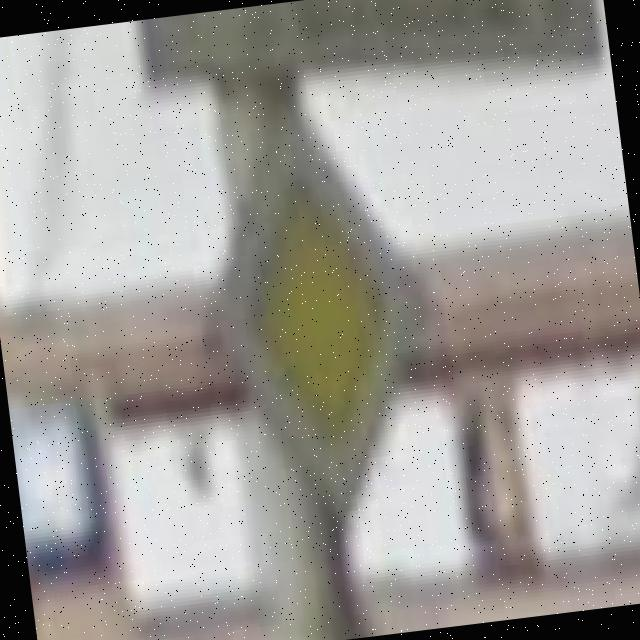Droga z pierwszenstwem: (166, 89, 449, 531)
